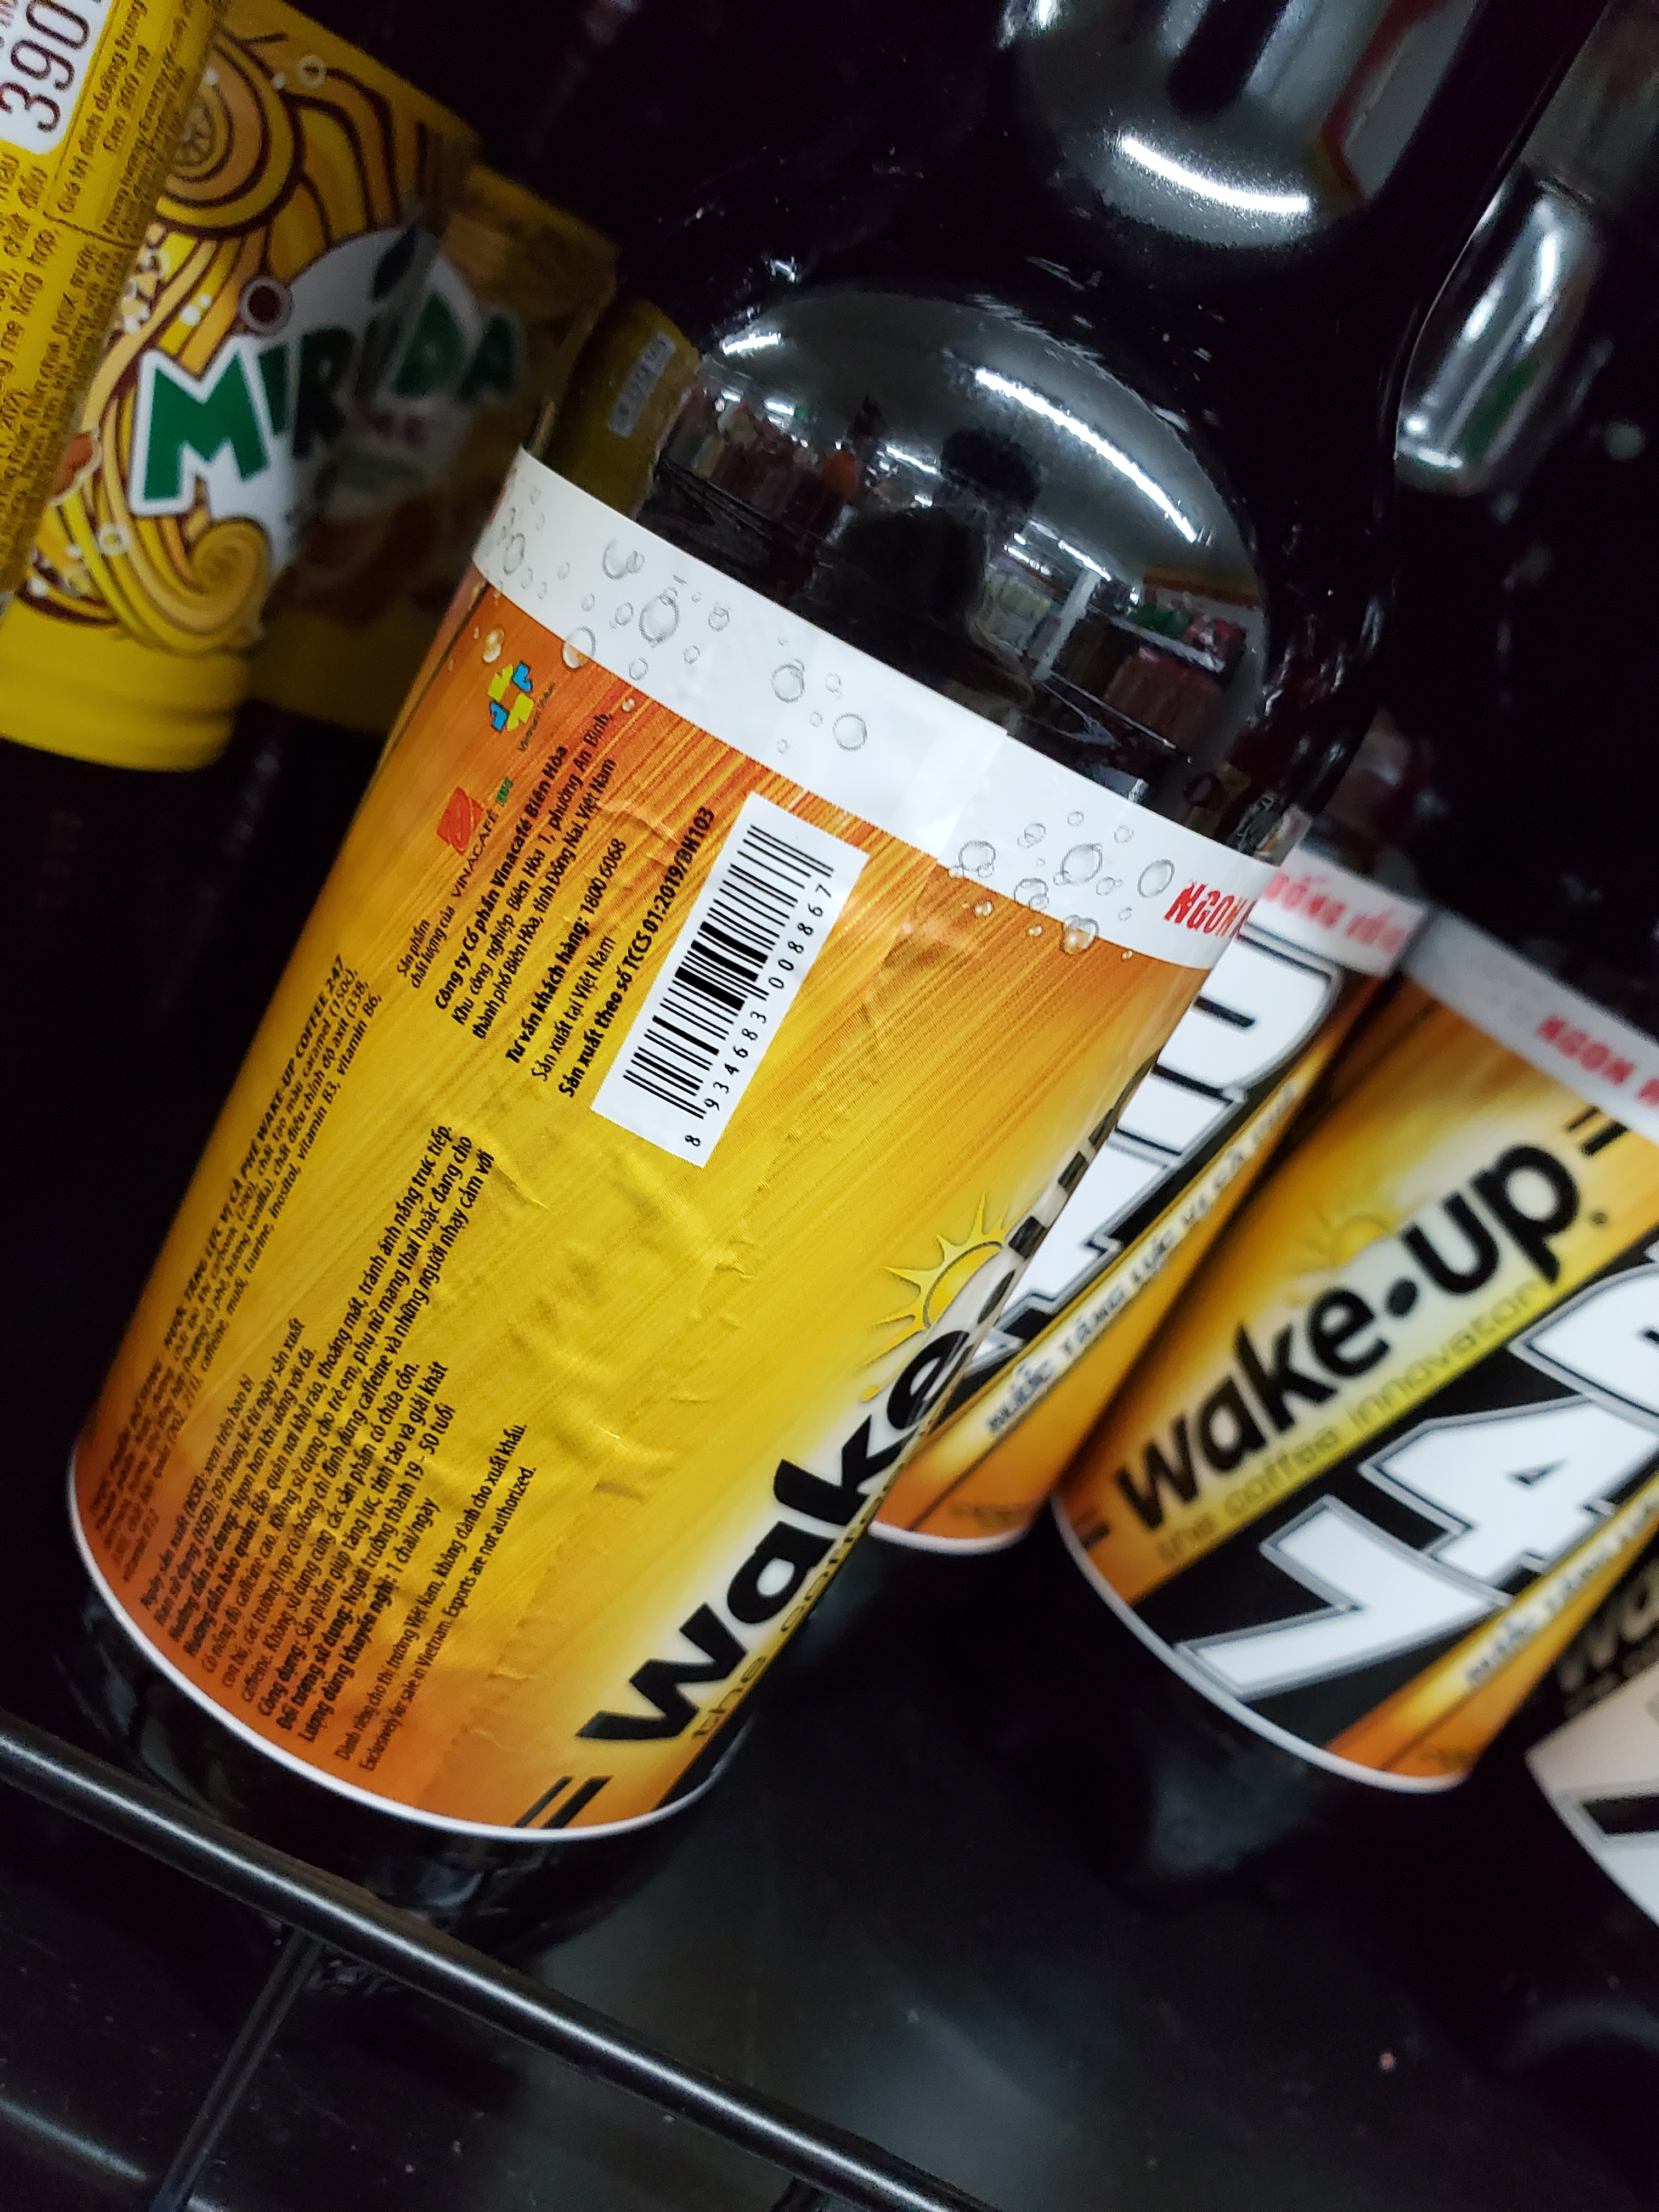barcode: (626, 799, 843, 1186)
